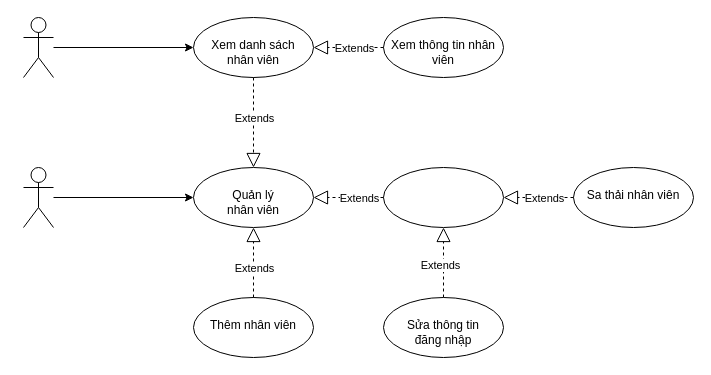
Image size: 711x375. Some labels were removed from this diagram. Each missing label, with the centre of its shape:
"Dược sĩ" goes at (x=38, y=47).
"Quản lý" goes at (x=38, y=197).
"Sửa thông tin nhân viên" goes at (x=443, y=197).
